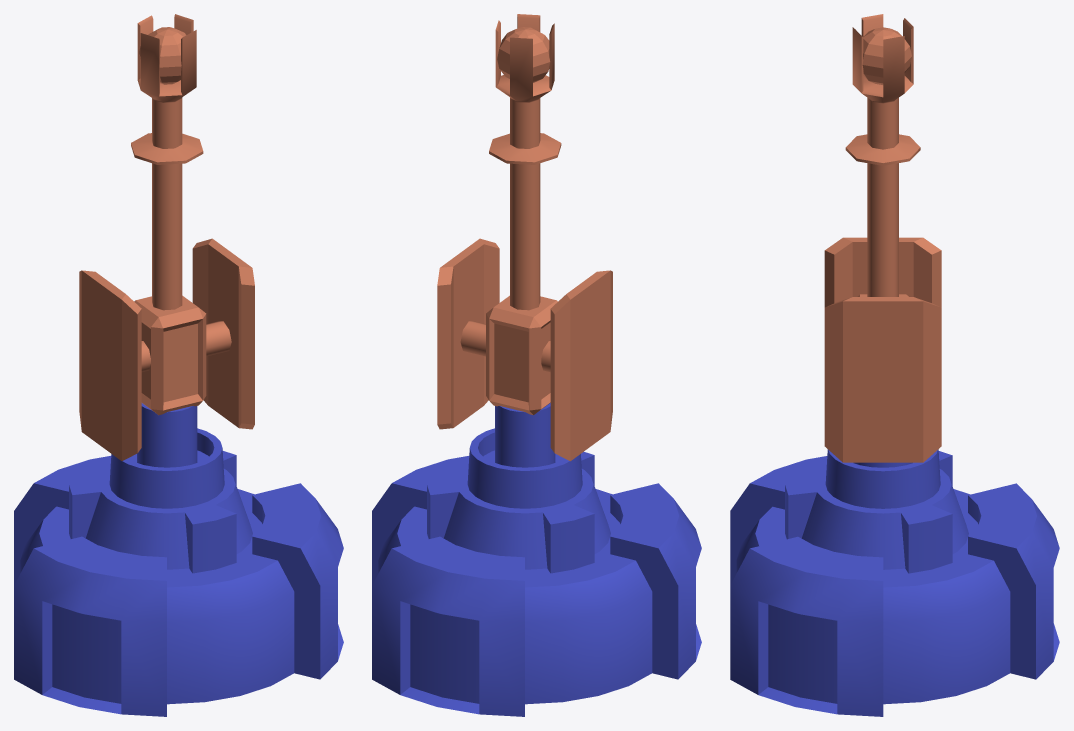
File: TransmissionTower.fbx
3 views of the same model, side by side, from view 1: azimuth 30°, elevation 25°; view 2: azimuth 150°, elevation 25°; view 3: azimuth 270°, elevation 25° (orthographic).
Visible parts, largest first — view 1: TransmissionTowerBase, TransmissionTowerUp; view 2: TransmissionTowerBase, TransmissionTowerUp; view 3: TransmissionTowerBase, TransmissionTowerUp.
Part boxes in pixels (x1,y1,x2,y2): TransmissionTowerBase: (14,403,343,716); TransmissionTowerUp: (79,14,254,460); TransmissionTowerBase: (372,403,701,716); TransmissionTowerUp: (437,14,612,461); TransmissionTowerBase: (730,449,1059,716); TransmissionTowerUp: (824,14,941,462).
Size of the model in its own units: 666 by 1281 by 622.
